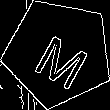M_NE: (25, 20, 92, 86)
